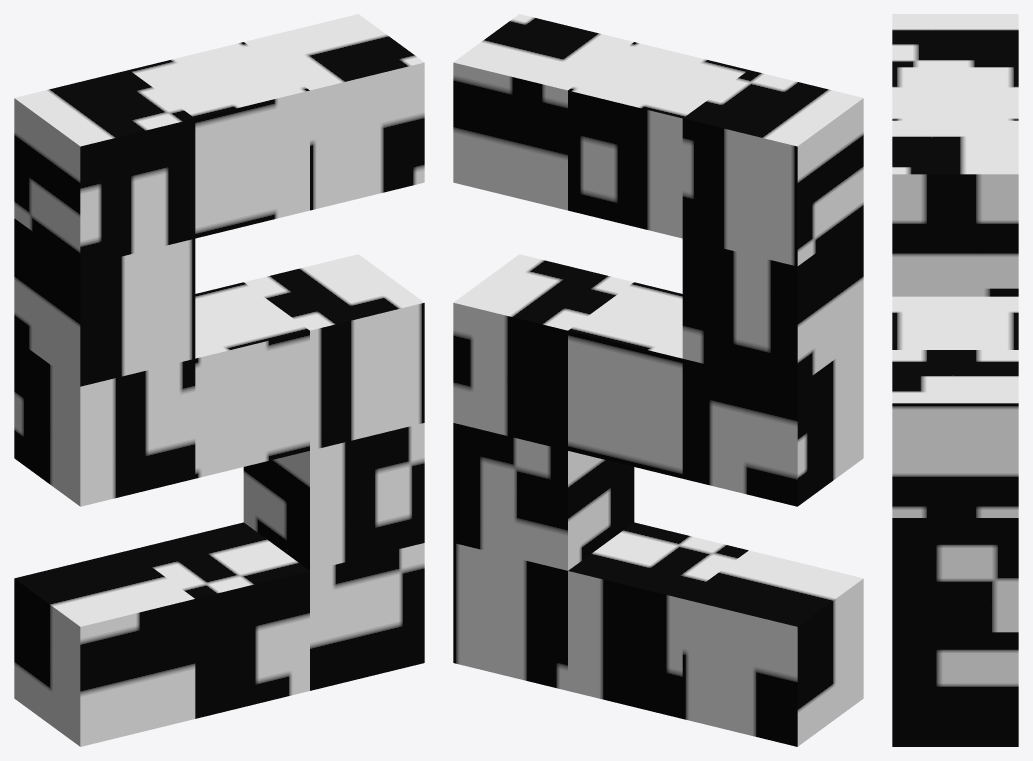
3 renders of one model, left to right at view 1: azimuth 30°, elevation 25°; view 2: azimuth 150°, elevation 25°; view 3: azimuth 270°, elevation 25°, orthographic. The views are drawn at different scales.
Size of the model in its own units: 0.072 by 0.12 by 0.024.
